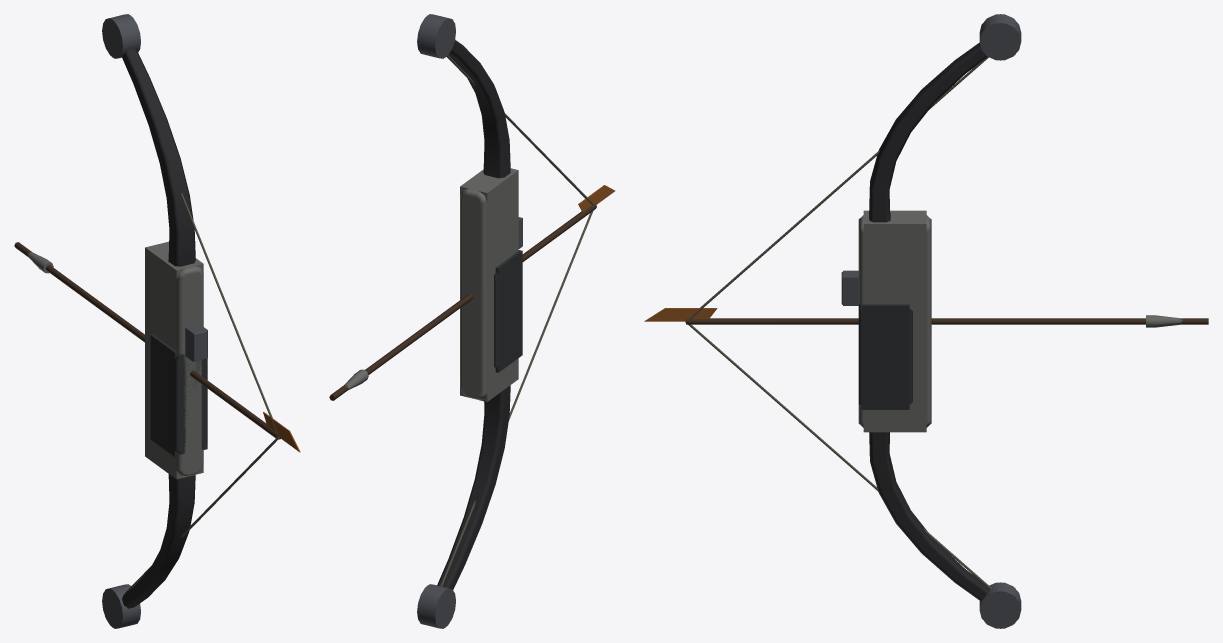
The model's file is bw_fire.glb.
The picture shows the model from 3 angles, left to right: view 1: azimuth 30°, elevation 25°; view 2: azimuth 150°, elevation 25°; view 3: azimuth 270°, elevation 25°; orthographic projection.
Parts seen in each view (by area): view 1: L0, L1; view 2: L0, L1; view 3: L0, L1.
Part boxes in pixels (x1,y1,x2,y2): L0: (14, 14, 300, 628); L1: (30, 15, 278, 627); L0: (329, 14, 615, 628); L1: (345, 15, 593, 627); L0: (644, 14, 1208, 628); L1: (685, 14, 1180, 628).
Size of the model in its own units: 0.036 by 0.64 by 0.54.
